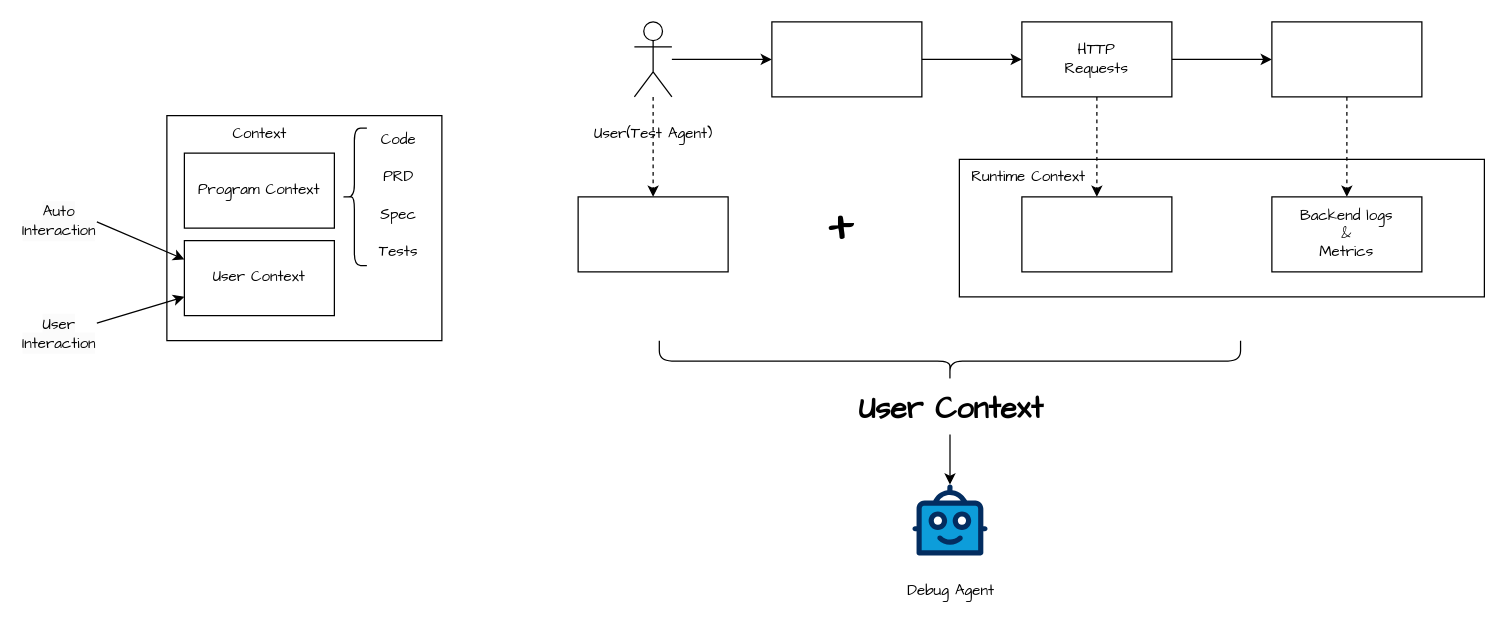
Some shapes in this 1506 by 623 pixel diagram are drawn without their labels. Each missing label, with the centre of its shape:
Backend: (1346,59)
Bug description: (652,234)
Interaction with UI: (846,59)
Network & Console log: (1096,234)
